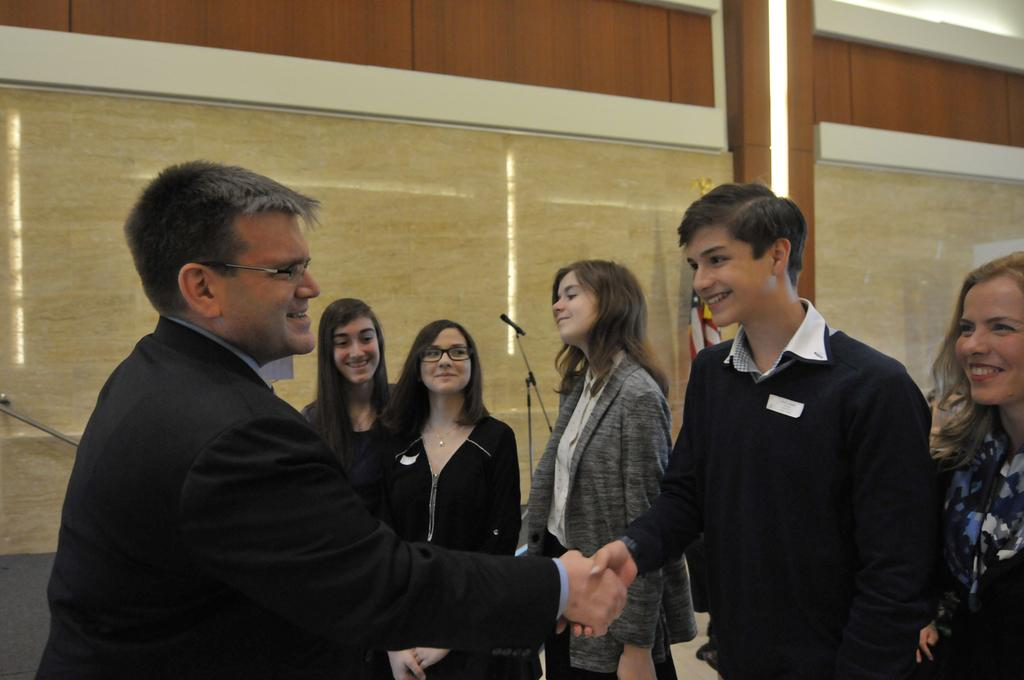Sem Máscara: (215, 209, 315, 350), (951, 274, 1021, 407), (682, 222, 766, 327), (548, 266, 594, 338), (416, 324, 466, 388), (329, 318, 377, 383)
